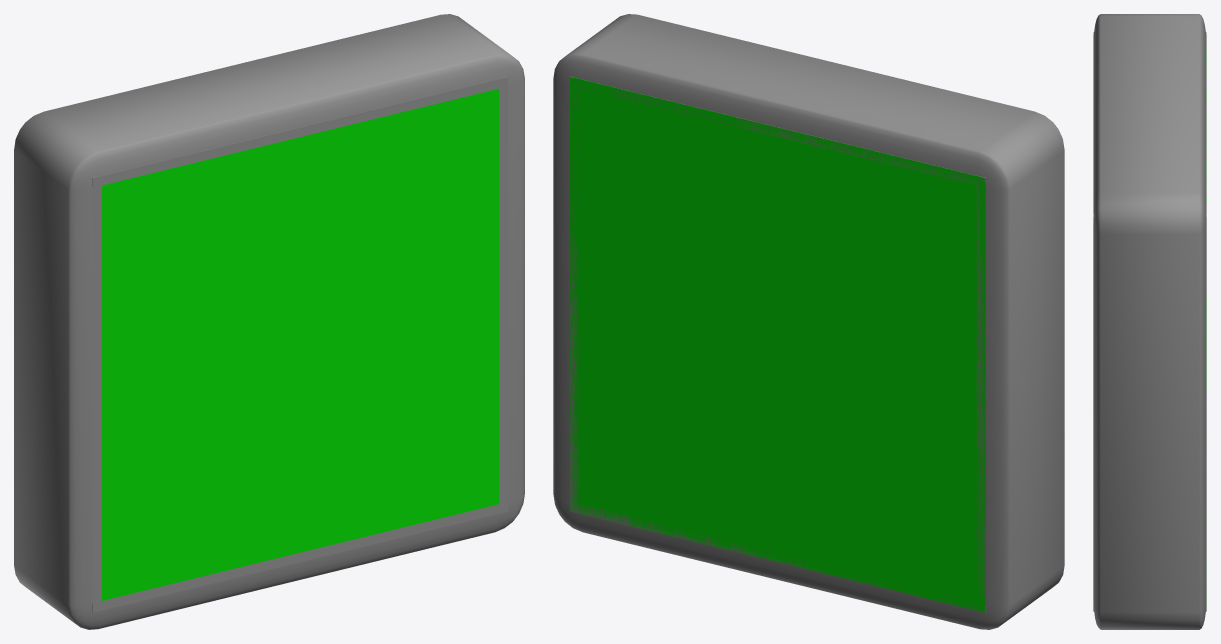
The model's file is greenbutton.fbx.
The picture shows the model from 3 angles, left to right: view 1: azimuth 30°, elevation 25°; view 2: azimuth 150°, elevation 25°; view 3: azimuth 270°, elevation 25°; orthographic projection. The views are drawn at different scales.
Visible parts, largest first — view 1: Cube.002; view 2: Cube.002; view 3: Cube.002.
Part boxes in pixels (<box>): Cube.002: <box>14,14,524,629</box>; Cube.002: <box>553,14,1064,629</box>; Cube.002: <box>1093,14,1206,629</box>.
Size of the model in its own units: 440 by 440 by 104.
